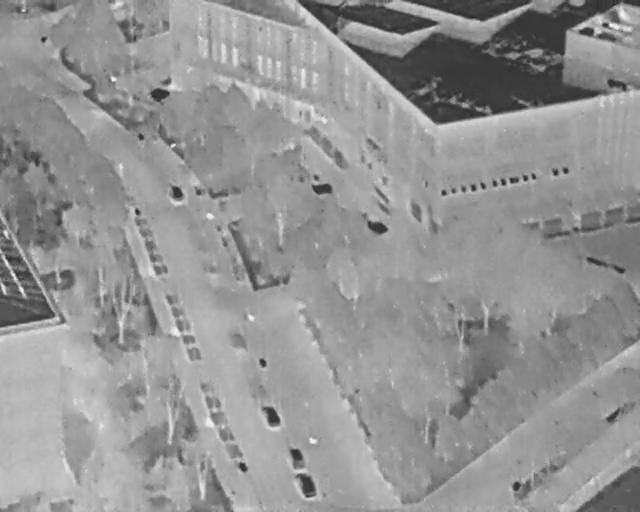Car: (294, 470, 318, 500), (286, 445, 308, 471), (261, 402, 282, 429), (168, 181, 184, 202)
